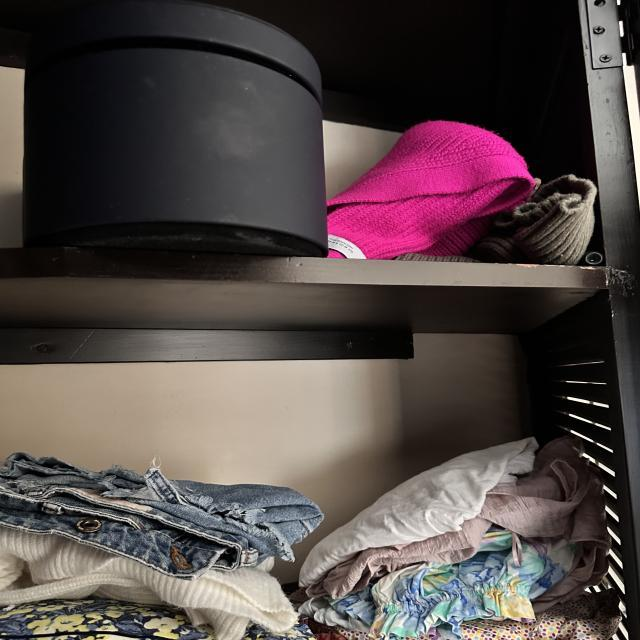hidden camera: (585, 252, 602, 265)
